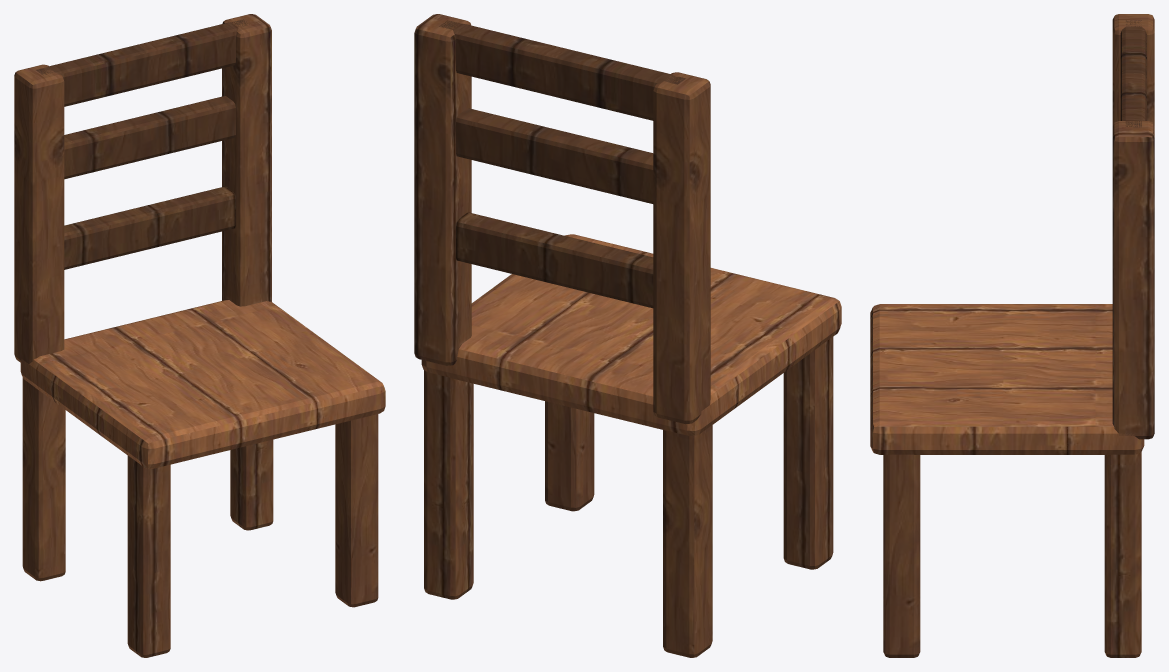
Rendered from chair__plank_root.glb.
The picture shows the model from 3 angles, left to right: view 1: azimuth 30°, elevation 25°; view 2: azimuth 150°, elevation 25°; view 3: azimuth 270°, elevation 25°; orthographic projection. The views are drawn at different scales.
Parts seen in each view (by area): view 1: model; view 2: model; view 3: model.
Part boxes in pixels (box(x1,y1,x2,y2)): model: box(14, 14, 385, 657); model: box(414, 14, 841, 657); model: box(870, 14, 1154, 657).
Bounding box in the file's own units: 0.56 × 1.1 × 0.54.
Materials: 3 (3 with a texture image).
